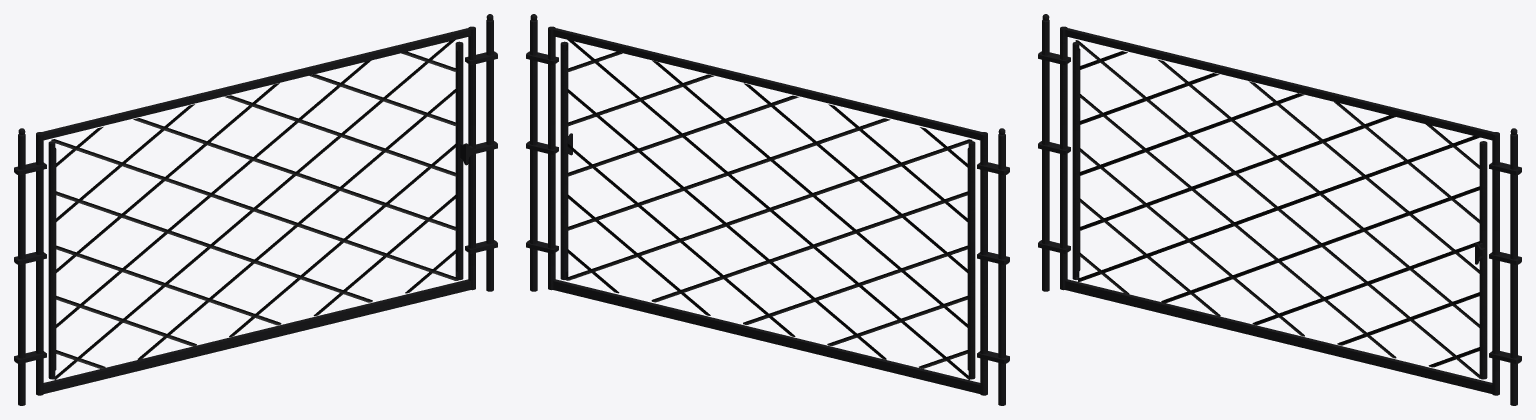
Rendered from ChainlinkfenceGate.fbx.
3 renders of one model, left to right at view 1: azimuth 30°, elevation 25°; view 2: azimuth 150°, elevation 25°; view 3: azimuth 330°, elevation 25°, orthographic.
Parts seen in each view (by area): view 1: pCylinder3, pCylinder4; view 2: pCylinder3, pCylinder4; view 3: pCylinder3, pCylinder4.
Part boxes in pixels (<box>): pCylinder3: <box>48,40,473,380</box>; pCylinder4: <box>14,14,497,405</box>; pCylinder3: <box>560,39,975,380</box>; pCylinder4: <box>526,14,1009,405</box>; pCylinder3: <box>1072,40,1487,379</box>; pCylinder4: <box>1038,14,1521,405</box>.
Bounding box in the file's own units: 270 × 148 × 9.92.
